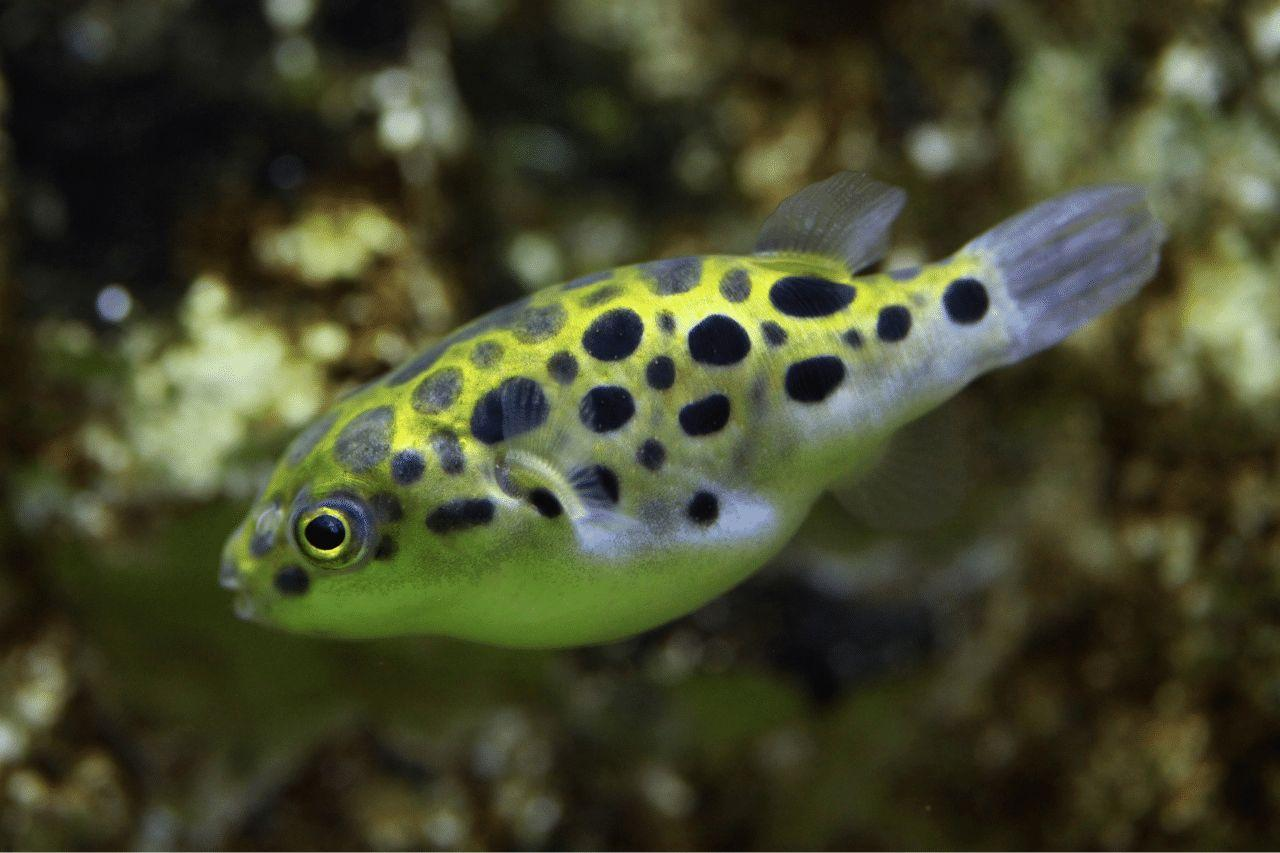Green Spotted Puffer: (221, 166, 1164, 662)
